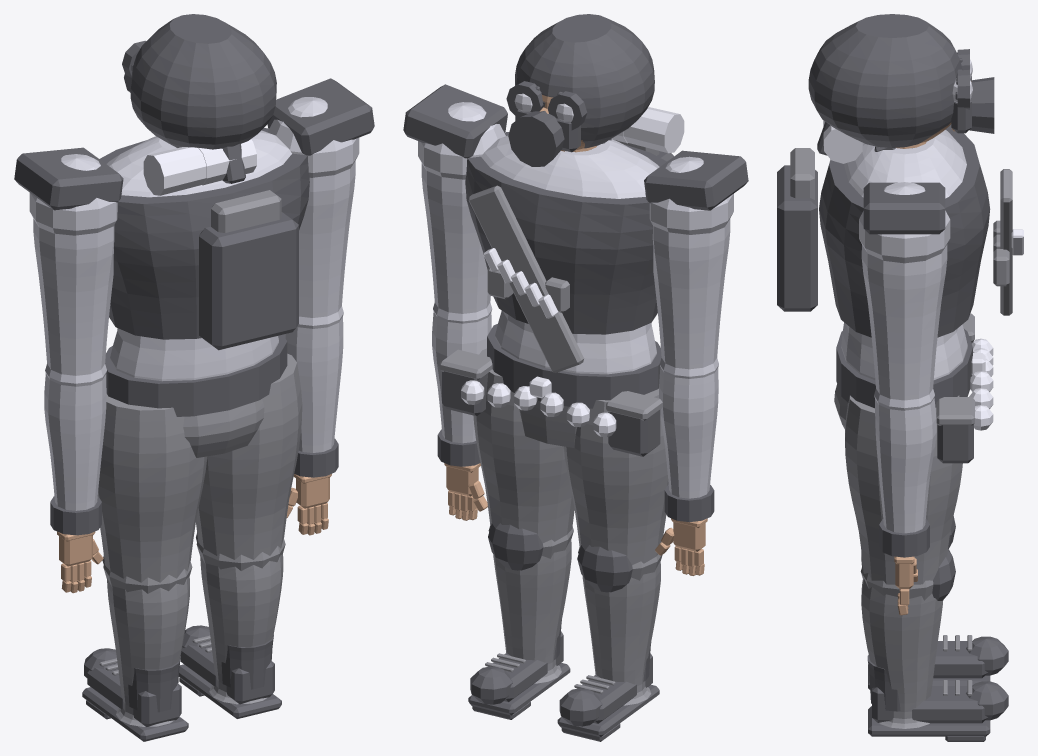
The model's file is bomber.glb.
The picture shows the model from 3 angles, left to right: view 1: azimuth 30°, elevation 25°; view 2: azimuth 150°, elevation 25°; view 3: azimuth 270°, elevation 25°; orthographic projection. The views are drawn at different scales.
Parts seen in each view (by area): view 1: Vest, Arm_l, Hood, Thigh_l, Torso, Arm_r, Thigh_r, Forearm_l, Shin_r, Shin_l, Forearm_r, Boot_l (+4 smaller); view 2: Vest, Torso, Arm_l, Hood, Arm_r, Thigh_l, Thigh_r, Forearm_l, Belt, Shin_r, Shin_l, Forearm_r (+8 smaller); view 3: Vest, Hood, Arm_r, Torso, Forearm_r, Thigh_r, Shin_r, Boot_r, Belt, Boot_l, Mask, Hand_r (+1 smaller).
Boxes of the visible parts, x1,y1,x2,y2 form: Vest: (99, 128, 309, 350); Arm_l: (14, 147, 123, 375); Hood: (122, 14, 276, 183); Thigh_l: (97, 394, 207, 582); Torso: (105, 130, 291, 416); Arm_r: (267, 78, 374, 317); Thigh_r: (196, 353, 302, 559); Forearm_l: (44, 364, 106, 535); Shin_r: (196, 538, 285, 704); Shin_l: (103, 561, 192, 726); Forearm_r: (283, 306, 343, 477); Boot_l: (82, 648, 188, 741); Vest: (465, 107, 684, 372); Torso: (481, 135, 661, 408); Arm_l: (644, 150, 748, 369); Hood: (506, 14, 654, 148); Arm_r: (403, 84, 507, 313); Thigh_l: (563, 388, 668, 564); Thigh_r: (473, 348, 574, 542); Forearm_l: (659, 358, 718, 522); Belt: (439, 349, 662, 456); Shin_r: (488, 525, 573, 683); Shin_l: (578, 546, 662, 705); Forearm_r: (432, 302, 492, 466); Vest: (777, 120, 1023, 337); Hood: (808, 14, 972, 155); Arm_r: (859, 182, 950, 400); Torso: (836, 130, 985, 408); Forearm_r: (874, 389, 936, 557); Thigh_r: (845, 395, 962, 584); Shin_r: (860, 565, 943, 728); Boot_r: (867, 655, 1008, 741); Belt: (936, 313, 993, 463); Boot_l: (868, 635, 1008, 689); Mask: (951, 76, 994, 133); Hand_r: (894, 556, 917, 615).
Size of the model in its own units: 0.9053 by 1.85 by 0.605.
